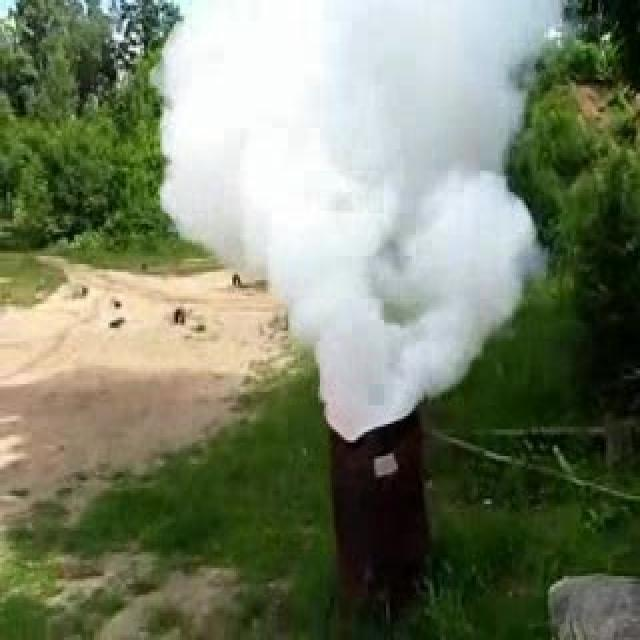Smoke: (146, 0, 562, 445)
